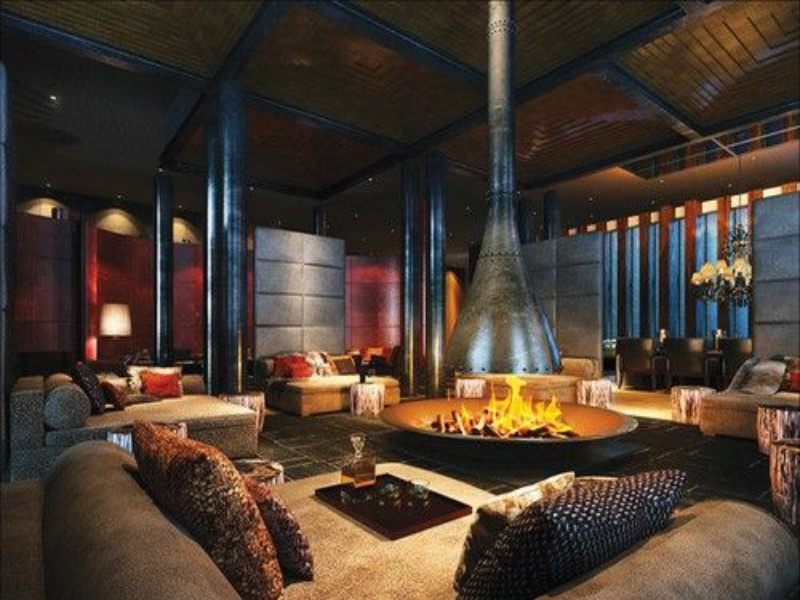fire: (456, 374, 571, 441)
